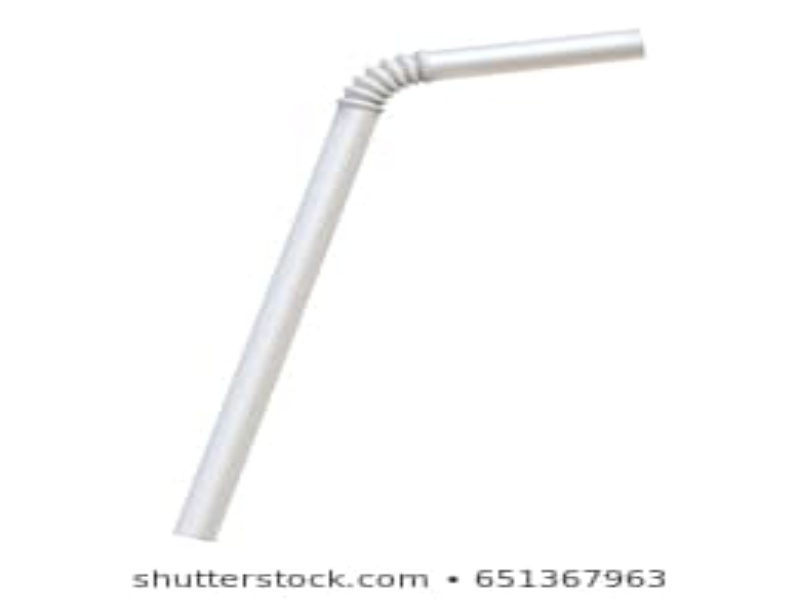straw: (171, 27, 647, 542)
